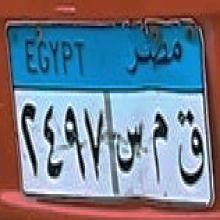2: (18, 100, 40, 186)
4: (42, 104, 64, 185)
7: (84, 104, 106, 185)
9: (64, 102, 84, 185)
meem: (148, 106, 170, 186)
qaaf: (173, 103, 205, 188)
seen: (116, 117, 143, 181)
